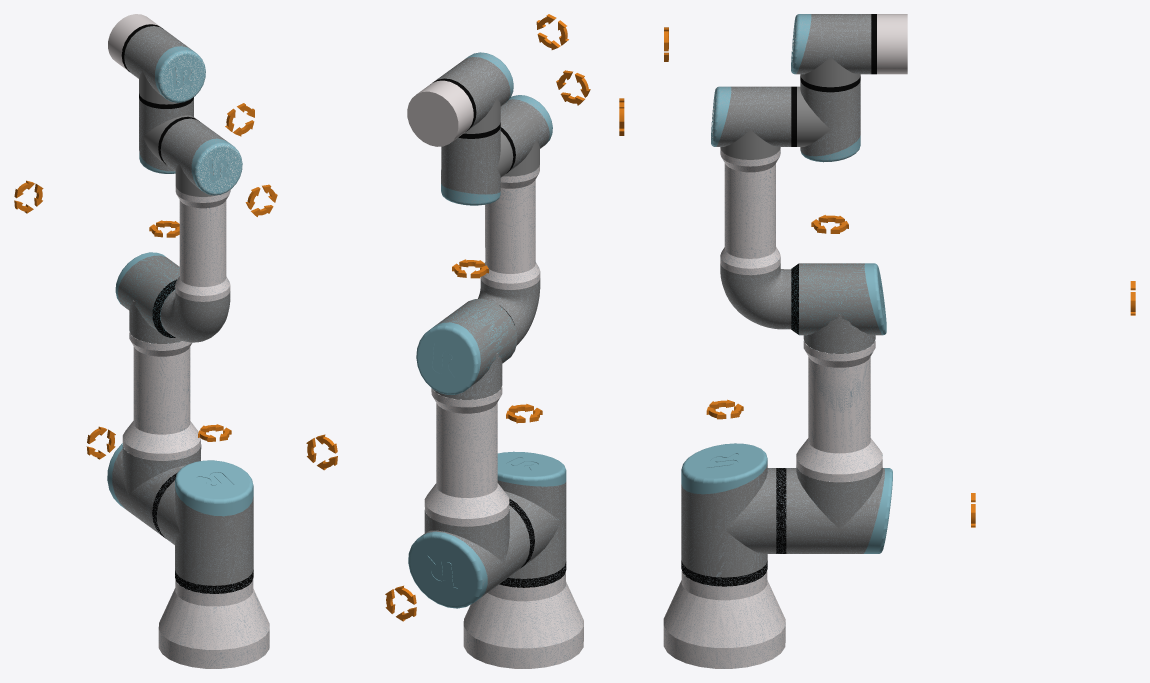
3 views of the same model, side by side, from view 1: azimuth 30°, elevation 25°; view 2: azimuth 150°, elevation 25°; view 3: azimuth 270°, elevation 25° (orthographic). The views are drawn at different scales.
Visible parts, largest first — view 1: T-Stück (×9), Fuß, Rohr1, Rohr2, Flansch (×6), Bogen, Werkzeugadapter, group_0, Verjüngung; view 2: T-Stück (×12), Fuß, Rohr1, Flansch (×6), Rohr2, Werkzeugadapter (×2), Bogen, group_0; view 3: T-Stück (×10), Flansch (×6), Fuß, Rohr1, Rohr2, Bogen, Werkzeugadapter, group_4, group_0.
Part boxes in pixels (x1,y1,x2,y2): T-Stück (×9): (112,26,253,585); Fuß: (158,579,269,668); Rohr1: (122,332,200,460); Rohr2: (175,186,230,301); Flansch (×6): (122,71,216,544); Bogen: (160,290,230,342); Werkzeugadapter: (108,14,159,70); group_0: (175,569,253,593); Verjüngung: (152,279,177,337); T-Stück (×12): (408,57,566,608); Fuß: (463,572,583,668); Rohr1: (424,387,509,526); Flansch (×6): (424,98,560,564); Rohr2: (480,165,540,289); Werkzeugadapter (×2): (407,80,473,146); Bogen: (478,278,540,345); group_0: (499,561,566,587); T-Stück (×10): (681,14,892,577); Flansch (×6): (720,57,882,553); Fuß: (663,571,785,668); Rohr1: (796,341,882,482); Rohr2: (720,148,780,275); Bogen: (720,263,791,329); Werkzeugadapter: (877,14,907,74); group_4: (776,468,786,553); group_0: (681,560,767,586).
Size of the model in its own units: 5.01 by 21.17 by 28.36.
